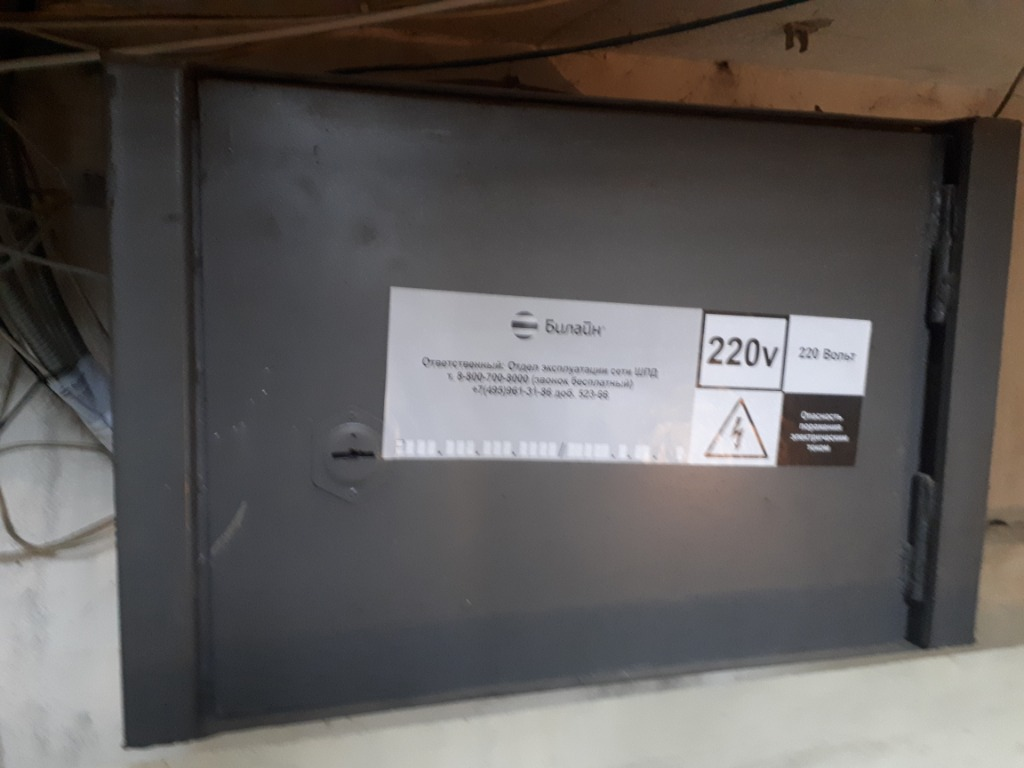e2-6u: (93, 43, 1020, 752)
